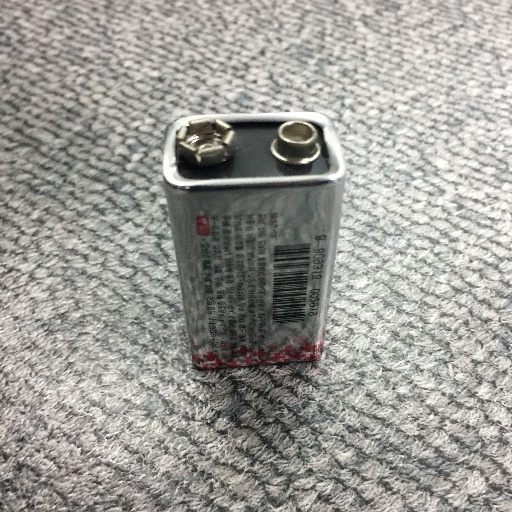Battery_3: (150, 93, 358, 398)
